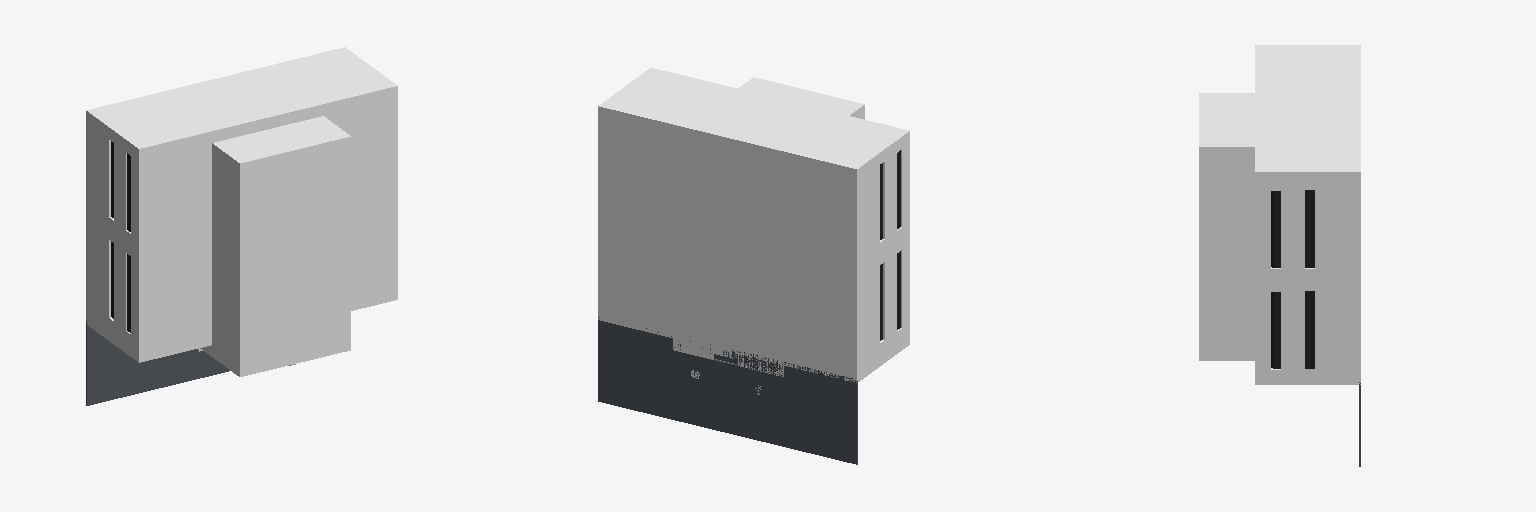
File: tinker 12.obj
The picture shows the model from 3 angles: view 1: azimuth 30°, elevation 25°; view 2: azimuth 150°, elevation 25°; view 3: azimuth 270°, elevation 25°; orthographic projection.
Parts seen in each view (by area): view 1: obj_9, obj_7, obj_12, obj_11; view 2: obj_9, obj_12, obj_7, obj_11; view 3: obj_9, obj_7, obj_10.
Boxes of the visible parts, x1=… form: obj_9: x1=86, y1=47, x2=397, y2=362; obj_7: x1=200, y1=116, x2=350, y2=376; obj_12: x1=86, y1=321, x2=229, y2=405; obj_11: x1=111, y1=141, x2=130, y2=332; obj_9: x1=598, y1=68, x2=909, y2=382; obj_12: x1=598, y1=316, x2=857, y2=464; obj_7: x1=673, y1=77, x2=864, y2=376; obj_11: x1=880, y1=150, x2=900, y2=340; obj_9: x1=1255, y1=45, x2=1360, y2=384; obj_7: x1=1199, y1=93, x2=1254, y2=360; obj_10: x1=1271, y1=190, x2=1314, y2=368.
Size of the model in its own units: 229 by 249 by 124.